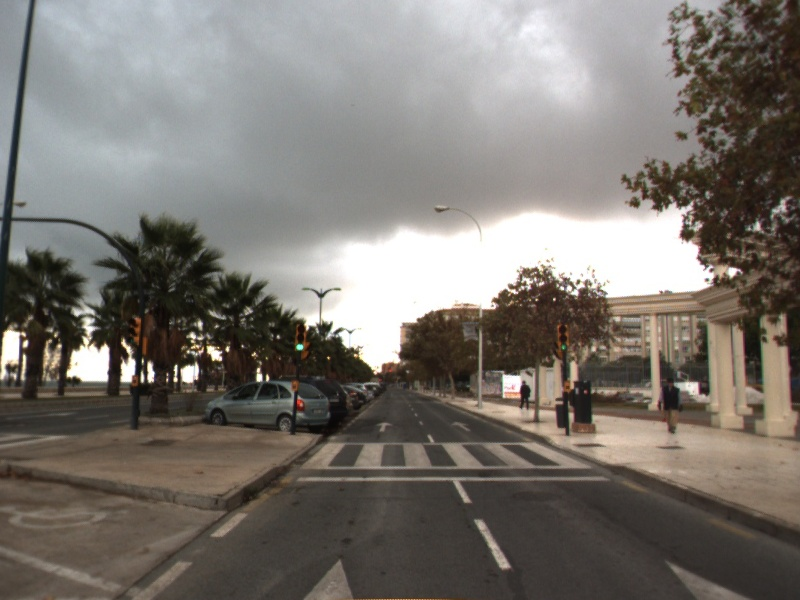STRAIGHT: (450, 420, 473, 433), (374, 421, 395, 433)
